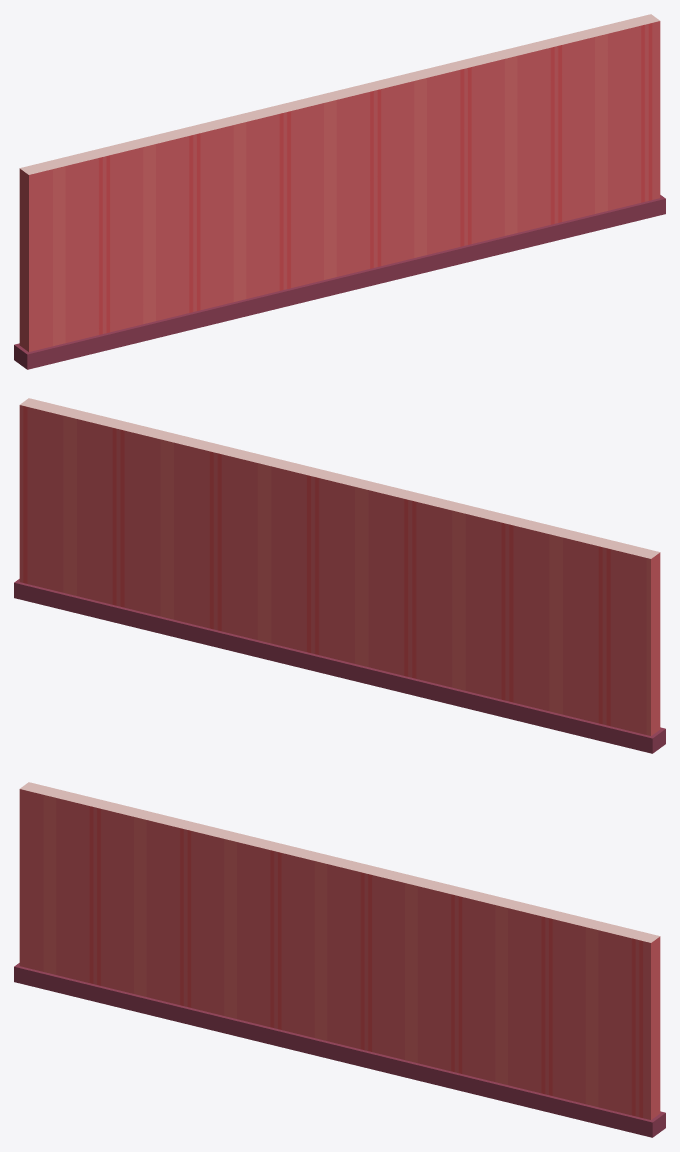
The model's file is Map_bs_Wallside4_geo.fbx.
3 views of the same model, one above another, from view 1: azimuth 30°, elevation 25°; view 2: azimuth 150°, elevation 25°; view 3: azimuth 330°, elevation 25° (orthographic).
Visible parts, largest first — view 1: Map_bs_Wallside4_geo; view 2: Map_bs_Wallside4_geo; view 3: Map_bs_Wallside4_geo.
Part boxes in pixels (x1,y1,x2,y2): Map_bs_Wallside4_geo: (14,14,665,369); Map_bs_Wallside4_geo: (14,398,665,753); Map_bs_Wallside4_geo: (14,782,665,1137).
Bounding box in the file's own units: 7.07 × 0.2564 × 2.04.
